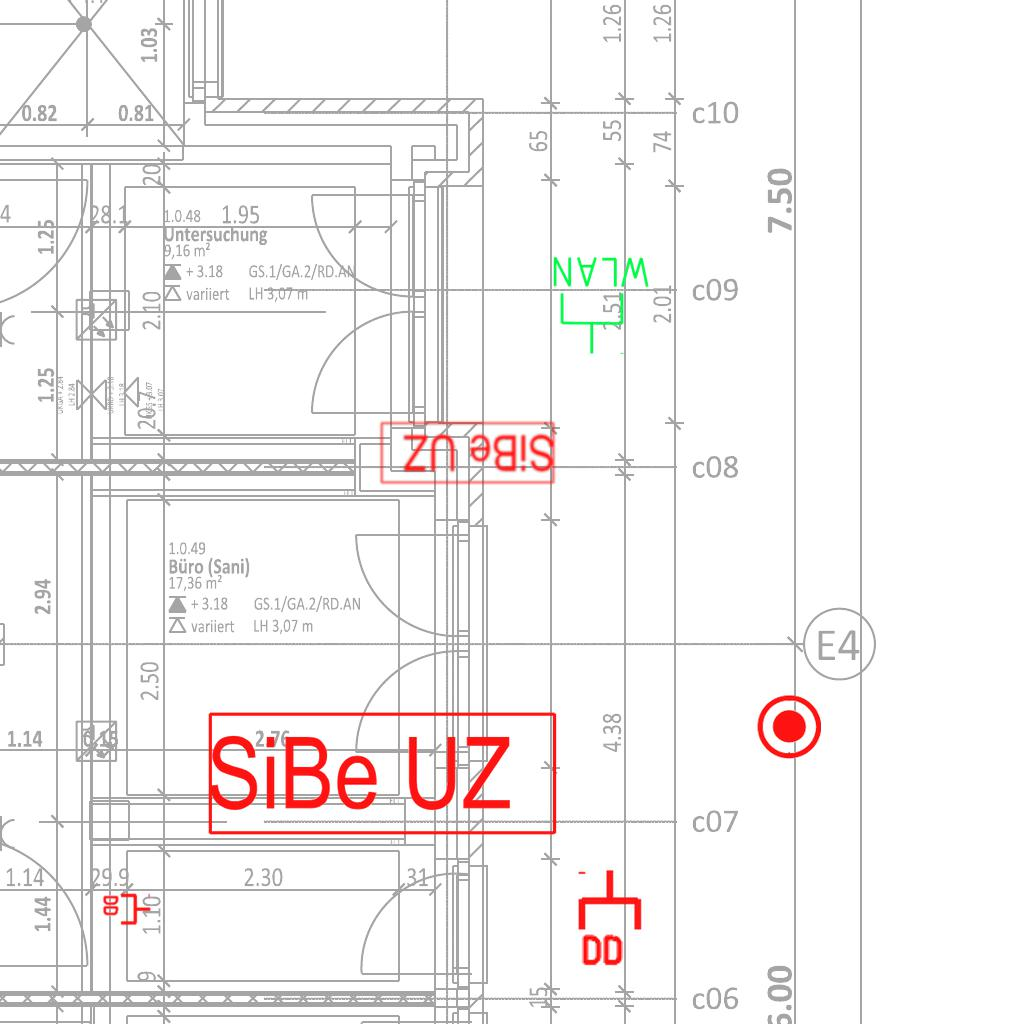Datenanschluss_zweifach: (577, 867, 646, 970), (101, 893, 152, 927)
Taster: (755, 693, 821, 759)
WLAN: (549, 253, 654, 357)
Zentrale_Sicherheitsbeleuchtung: (205, 709, 562, 839), (378, 420, 556, 485)
